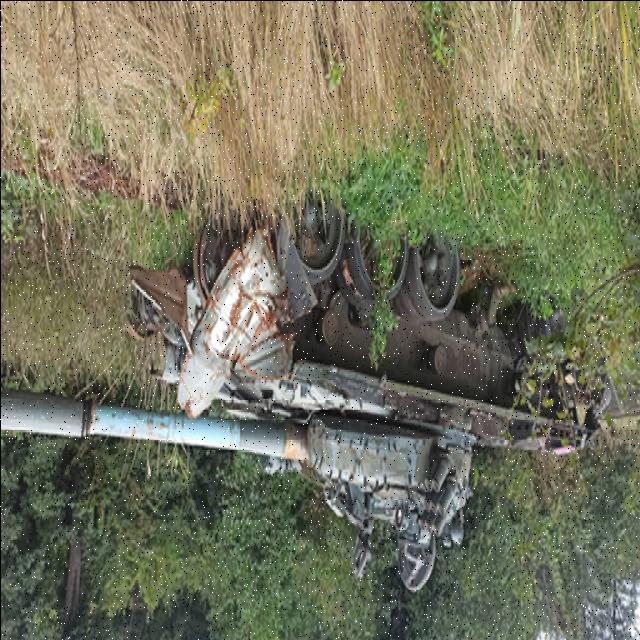TANK: (0, 187, 610, 582)
